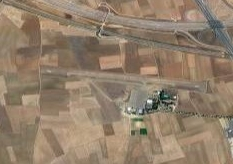airport: (39, 65, 209, 113)
motorway: (150, 41, 210, 60), (106, 12, 166, 31), (166, 18, 226, 37), (97, 27, 150, 48), (47, 1, 107, 19), (51, 16, 97, 36), (6, 2, 52, 20), (191, 1, 210, 19), (220, 38, 233, 59)
